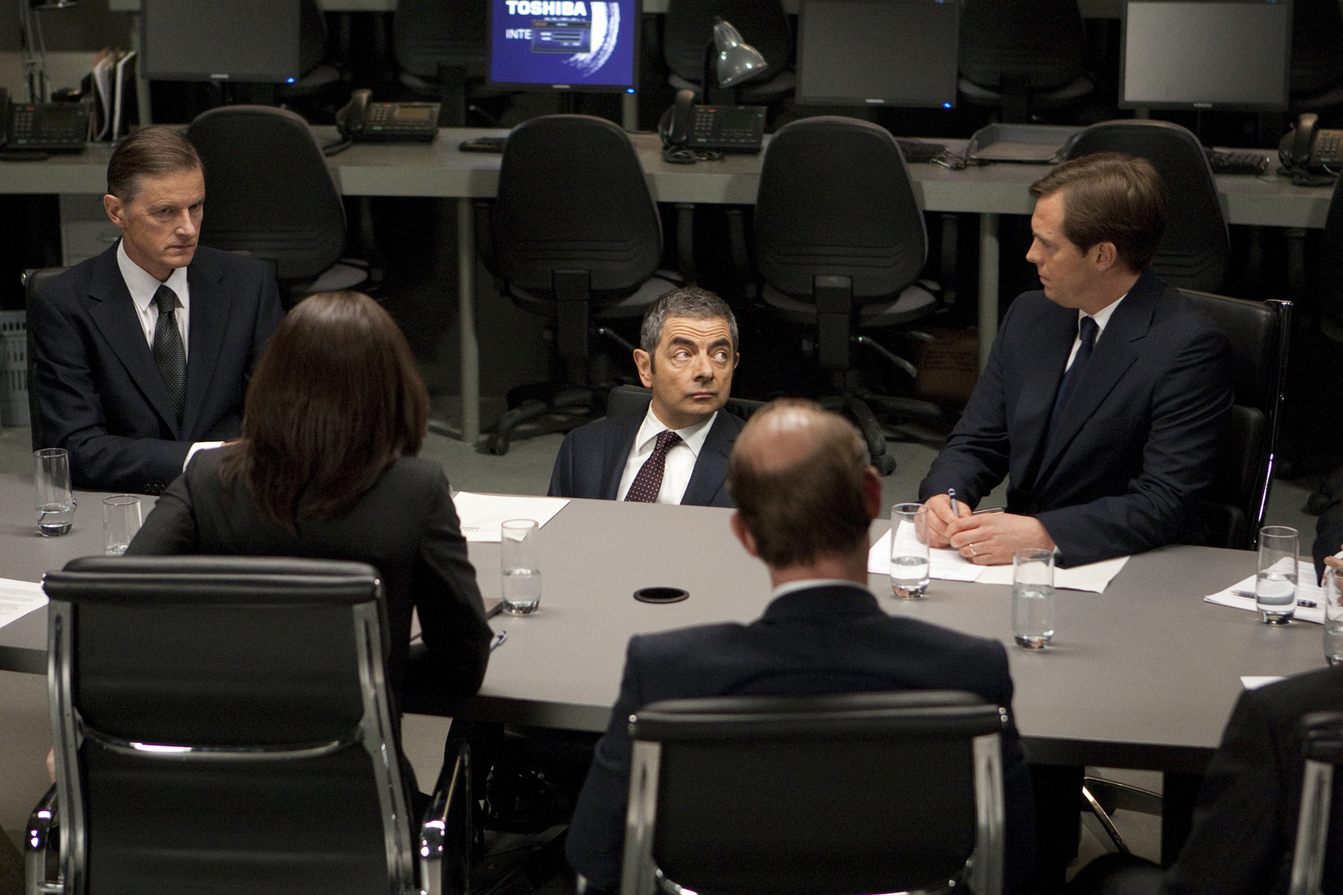50: (638, 297, 745, 430)
52: (1014, 171, 1108, 321), (115, 148, 216, 281)
Coat: (573, 599, 1111, 895), (913, 221, 1272, 589), (107, 425, 511, 741), (9, 236, 322, 518), (544, 389, 804, 538)
Male: (638, 297, 745, 430), (1014, 171, 1108, 321), (115, 148, 216, 281)
Tie: (1041, 313, 1108, 434), (144, 271, 198, 409), (628, 420, 688, 531)
